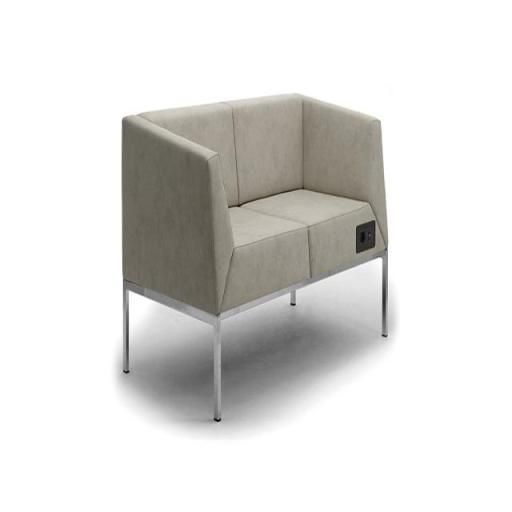sofa: (106, 75, 428, 422)
